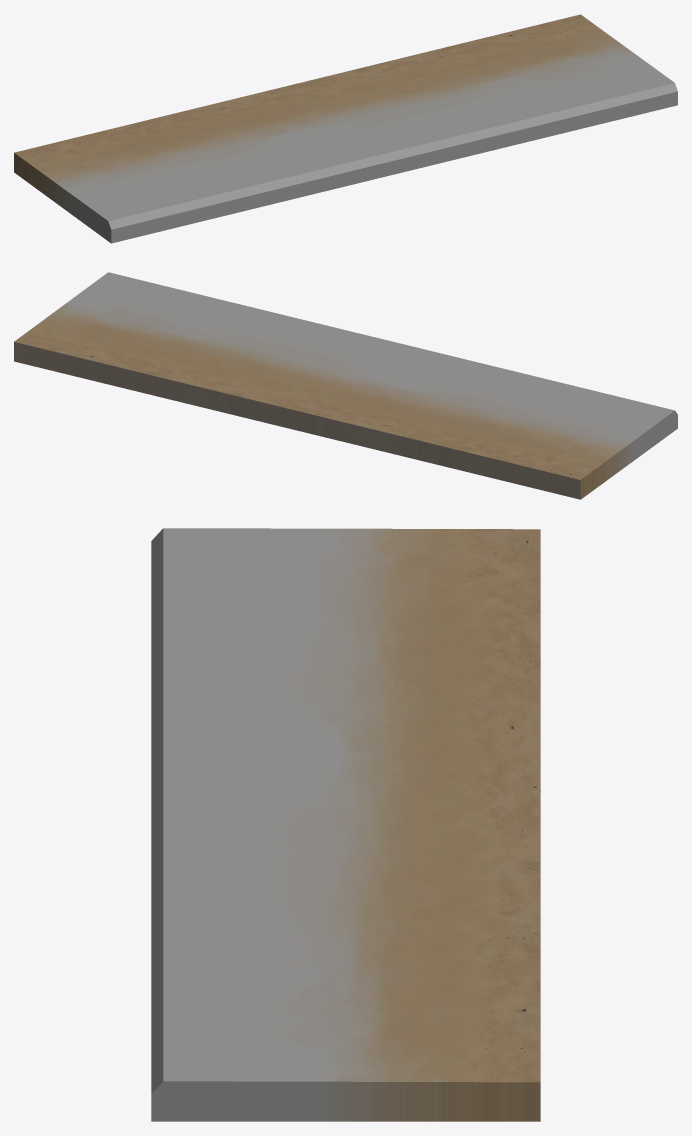
The model's file is fbx_playground_sidewalk.fbx.
3 renders of one model, top to bottom at view 1: azimuth 30°, elevation 25°; view 2: azimuth 150°, elevation 25°; view 3: azimuth 270°, elevation 25°, orthographic. The views are drawn at different scales.
Visible parts, largest first — view 1: fbx_playground_sidewalk; view 2: fbx_playground_sidewalk; view 3: fbx_playground_sidewalk.
Boxes of the visible parts, x1,y1,x2,y2 form: fbx_playground_sidewalk: (14,14,677,243); fbx_playground_sidewalk: (14,272,677,499); fbx_playground_sidewalk: (151,528,540,1121).
Bounding box in the file's own units: 10.9 × 0.3722 × 3.24.
Materials: 1 (1 with a texture image).
